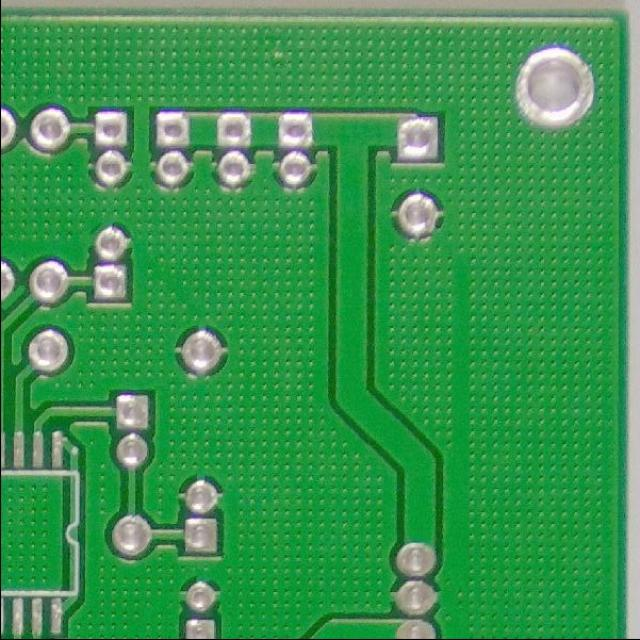Spurious_Cooper: (0, 278, 32, 313)
